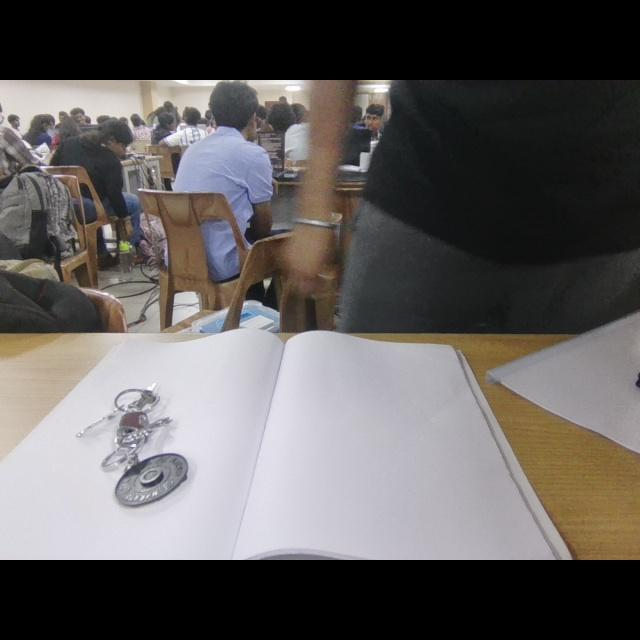keys: (76, 383, 188, 506)
